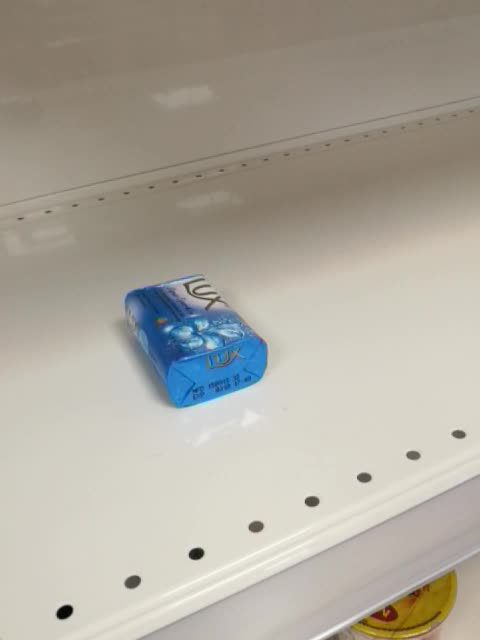soap: (122, 272, 269, 411)
